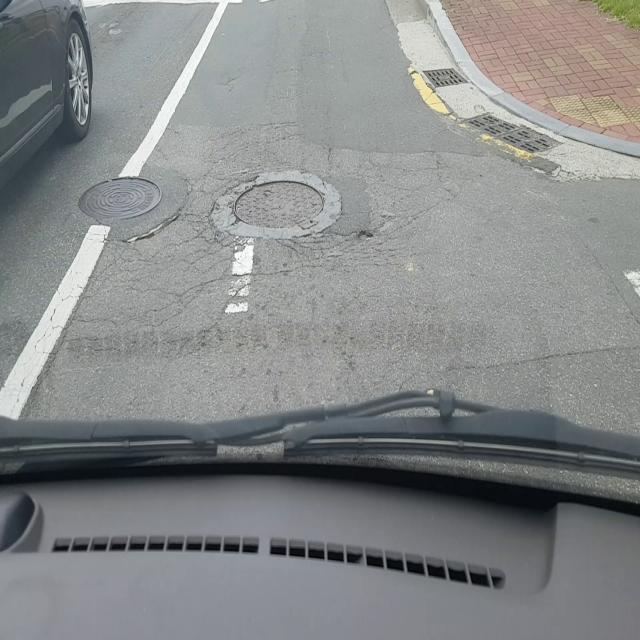Pothole: (208, 168, 344, 245)
